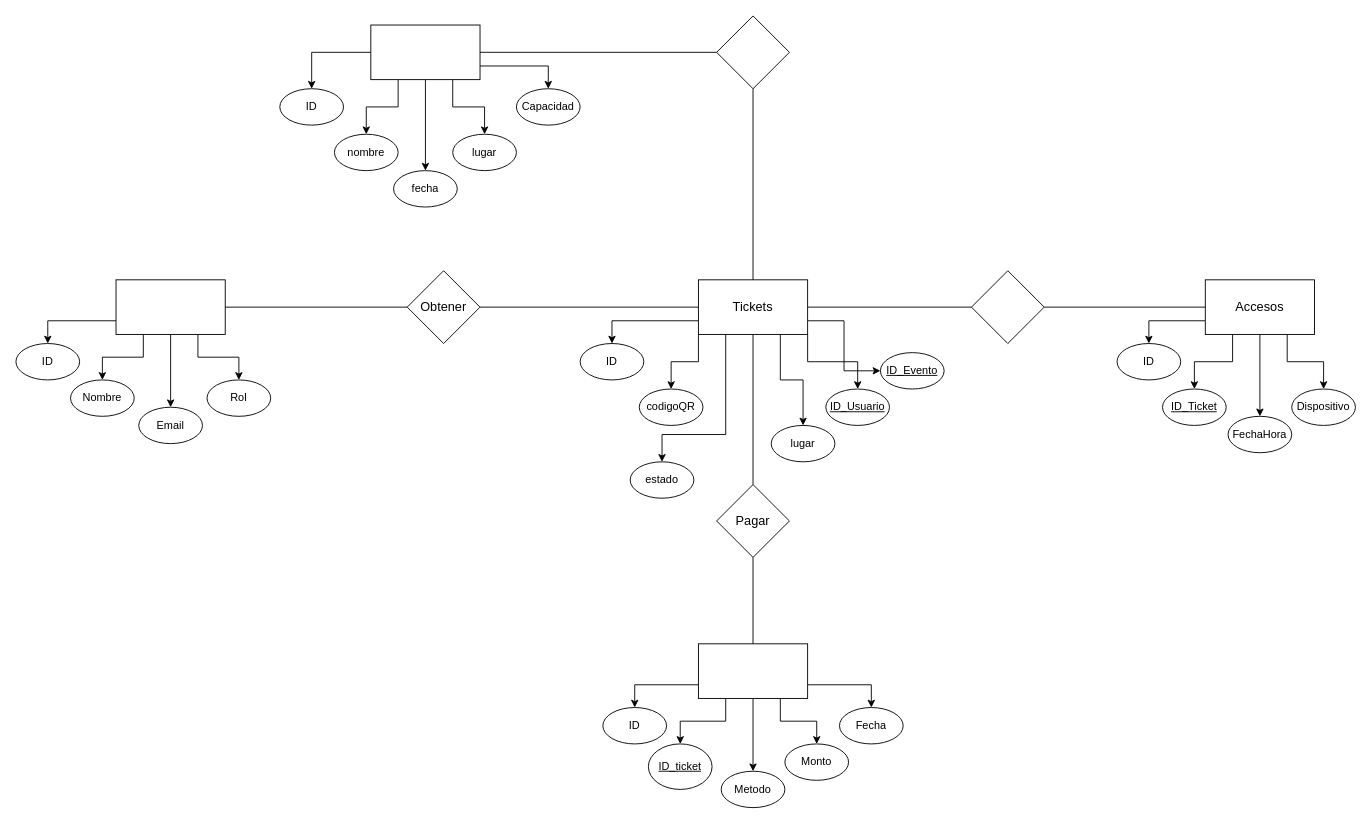
The diagram is 1371 pixels wide and 824 high, and some of its shapes have lost their labels. Each missing label, with the centre of its shape:
Eventos: the point at 425,52
Generar: the point at 752,52
Pagos: the point at 753,670
Tener: the point at 1007,307
Usuarios: the point at 170,306
